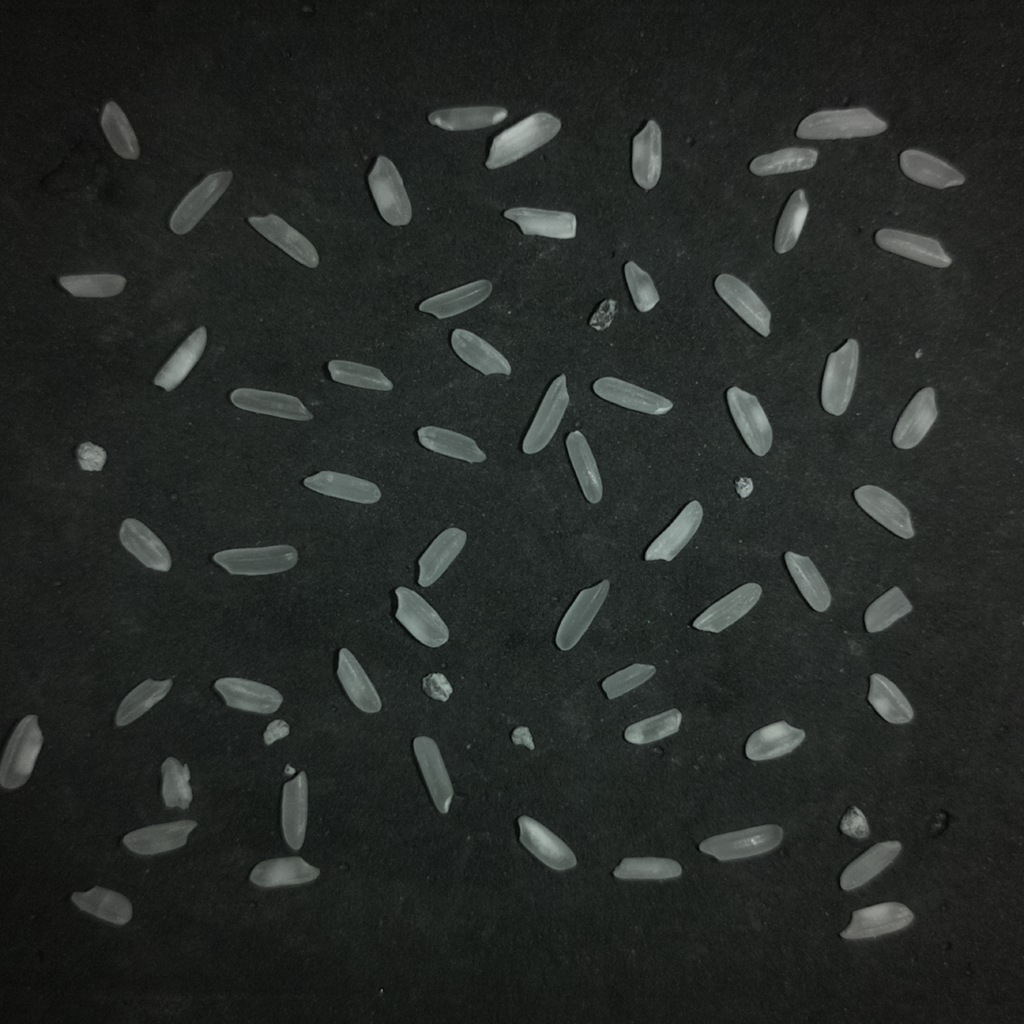chalky: (485, 111, 560, 168), (248, 214, 318, 268), (153, 326, 207, 392), (644, 500, 702, 560), (714, 274, 770, 336), (693, 582, 761, 632), (853, 485, 914, 538), (518, 815, 576, 870), (726, 387, 772, 456), (395, 587, 447, 647), (0, 715, 42, 789), (874, 228, 951, 268), (839, 841, 901, 890), (367, 156, 411, 225), (796, 107, 886, 139), (822, 339, 859, 415), (337, 648, 380, 713), (892, 387, 937, 449), (840, 902, 913, 940), (450, 328, 510, 374), (784, 551, 830, 611), (119, 518, 170, 571), (899, 149, 965, 188), (213, 677, 282, 714), (745, 721, 805, 760), (503, 207, 576, 239), (867, 673, 912, 724), (249, 855, 319, 887), (774, 189, 808, 253), (865, 587, 911, 632), (631, 120, 661, 189), (624, 708, 681, 744), (428, 105, 507, 130), (749, 147, 817, 175), (601, 663, 655, 698), (624, 261, 659, 312), (161, 757, 192, 809), (58, 273, 125, 297), (613, 857, 681, 880)
foreign: (839, 805, 869, 839), (421, 672, 452, 702), (75, 441, 106, 471), (588, 299, 617, 330), (263, 719, 289, 745), (511, 726, 534, 749)
whole: (169, 170, 233, 235), (555, 580, 609, 650), (522, 374, 569, 454), (699, 824, 783, 861), (413, 736, 453, 813), (592, 377, 672, 414), (417, 279, 491, 318), (418, 527, 466, 587), (114, 679, 172, 726), (230, 388, 312, 421), (566, 431, 602, 503), (122, 820, 196, 855), (212, 545, 297, 575), (303, 471, 380, 503), (417, 426, 485, 462), (70, 886, 131, 926), (100, 100, 140, 159), (280, 771, 307, 851), (328, 360, 392, 390)
